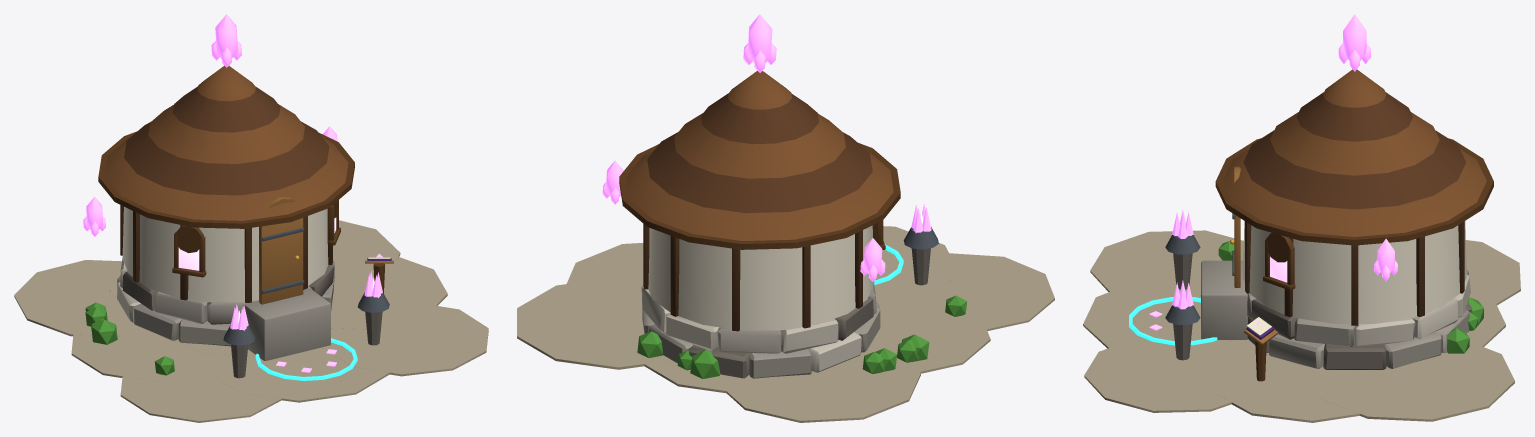
The model's file is budynek_fuzji_poz09.glb.
The picture shows the model from 3 angles, left to right: view 1: azimuth 30°, elevation 25°; view 2: azimuth 150°, elevation 25°; view 3: azimuth 270°, elevation 25°; orthographic projection. The views are drawn at different scales.
Parts seen in each view (by area): view 1: budynek_fuzji_poz09; view 2: budynek_fuzji_poz09; view 3: budynek_fuzji_poz09.
Part boxes in pixels (bbox=[...]): budynek_fuzji_poz09: bbox=[14, 14, 488, 422]; budynek_fuzji_poz09: bbox=[517, 14, 1054, 422]; budynek_fuzji_poz09: bbox=[1083, 14, 1520, 422].
Bounding box in the file's own units: 8.65 × 6.72 × 8.4.
